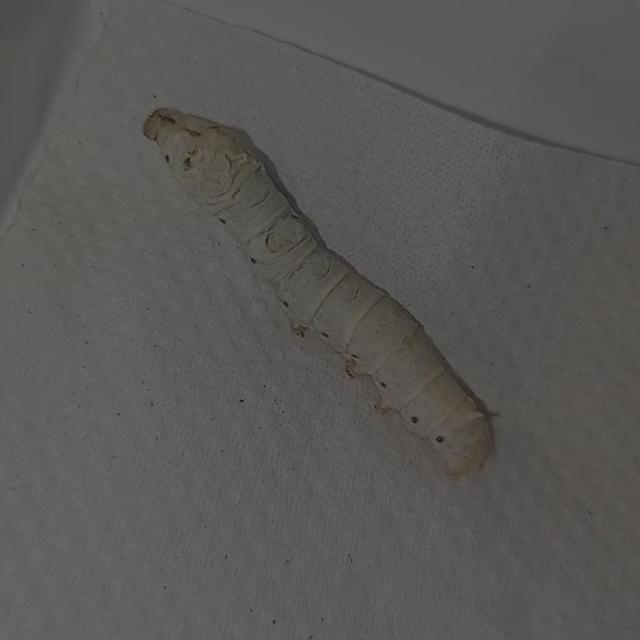Healthy: (125, 84, 513, 497)
